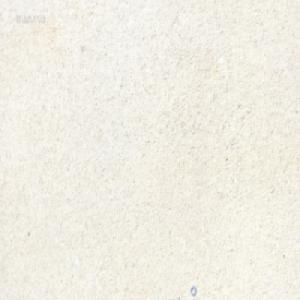Washer: (190, 285, 197, 296)
